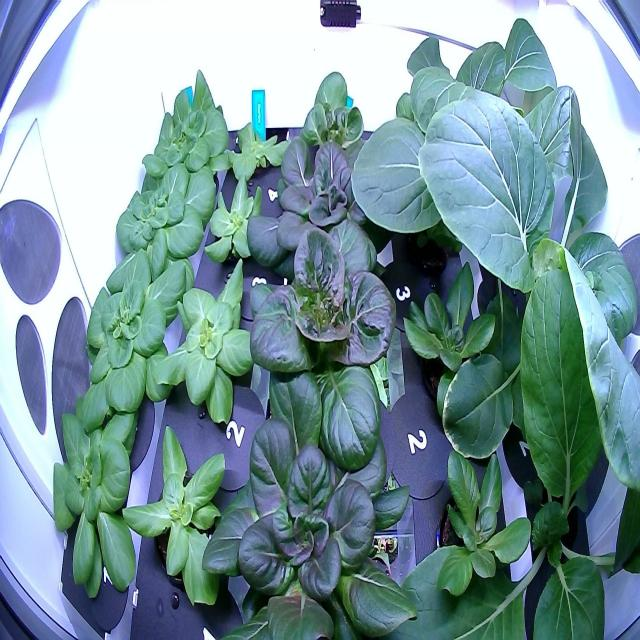young: (198, 393, 430, 640), (233, 201, 410, 480), (241, 119, 388, 283), (38, 400, 152, 608), (72, 236, 193, 431), (118, 417, 238, 611), (151, 251, 274, 435), (394, 255, 510, 436), (432, 424, 543, 612), (96, 157, 224, 295), (137, 65, 233, 193), (284, 65, 379, 193), (196, 168, 275, 274), (220, 110, 295, 200)
